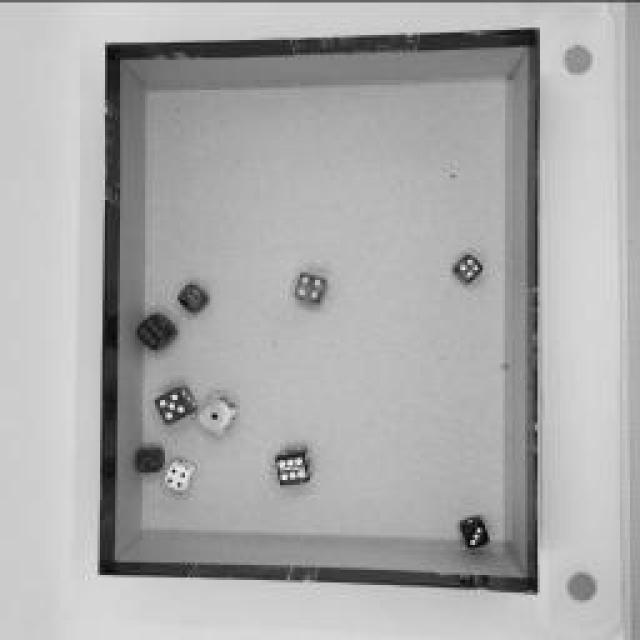dice_1: (200, 392, 235, 438)
dice_2: (135, 448, 160, 478)
dice_3: (455, 515, 490, 550)
dice_4: (292, 266, 328, 306), (165, 457, 197, 495), (176, 281, 212, 311), (456, 254, 486, 284)
dice_5: (155, 382, 195, 422)
dice_6: (136, 310, 179, 350), (275, 445, 315, 485)
